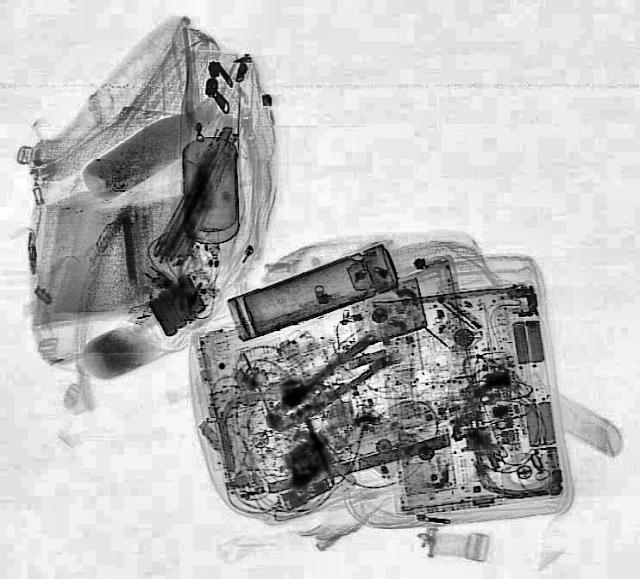Pliers: (255, 334, 398, 438)
